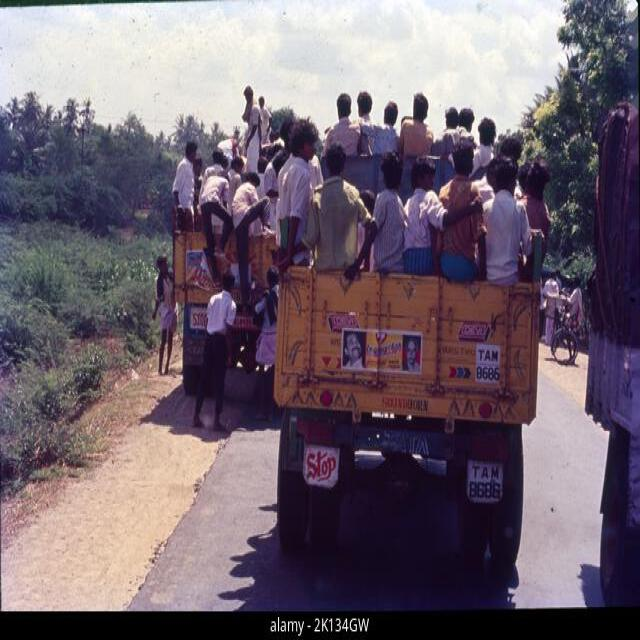normal_truck: (275, 267, 538, 565), (174, 233, 276, 393)
